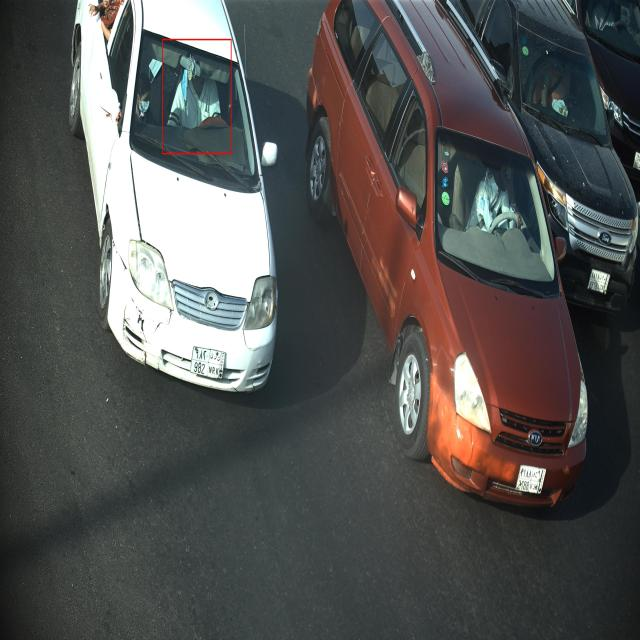windshield: (128, 24, 262, 192), (432, 125, 560, 297), (515, 20, 611, 144), (581, 0, 640, 65)
